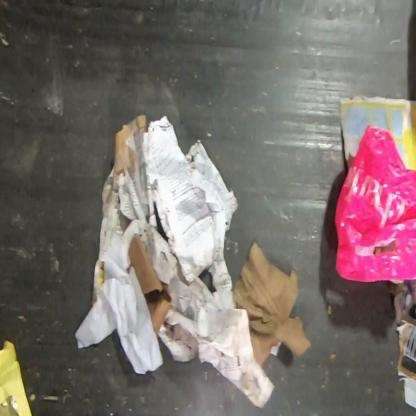cardboard: (232, 241, 312, 367), (128, 233, 172, 338)
soft_plastic: (333, 123, 415, 284)
